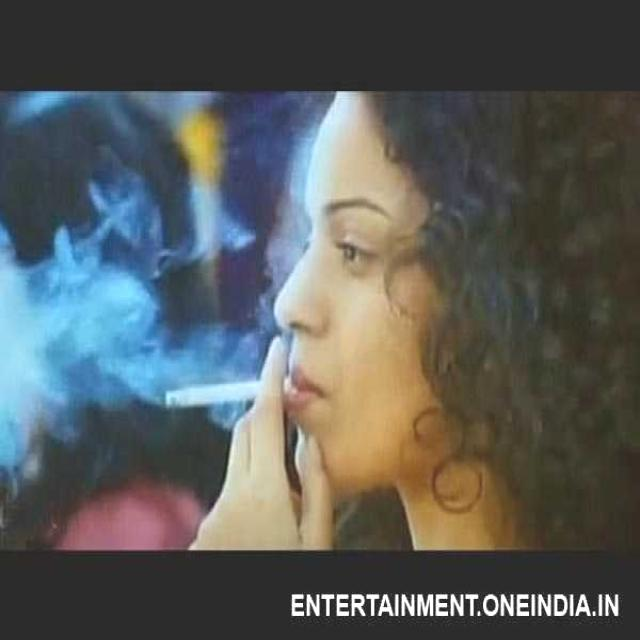Smooking: (161, 364, 268, 424)
